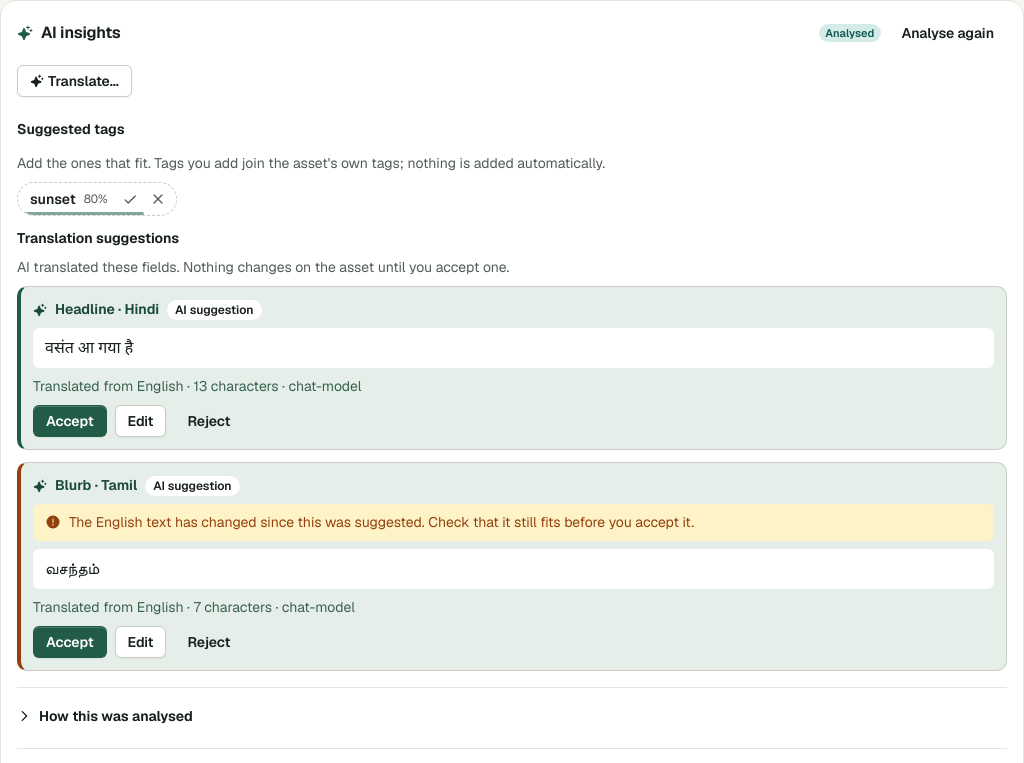
Test: AI panel: translation suggestions › accepts one from the panel and the card leaves the list
The image size is (1024, 763).
Click the button with aria-label "Accept the Hindi translation of Headline" at coordinates (70, 421), box [33, 405, 107, 437]
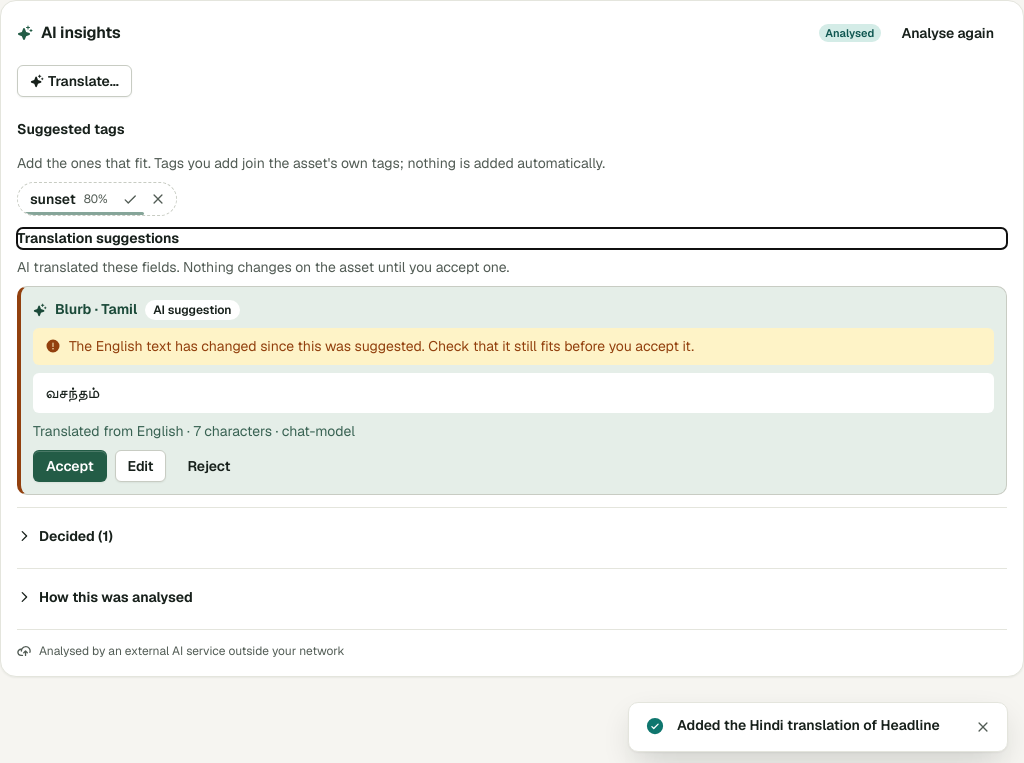
Check: the text "வசந்தம்" is shown, box [33, 373, 994, 413]
Check: the text "वसंत आ गया है" is gone
